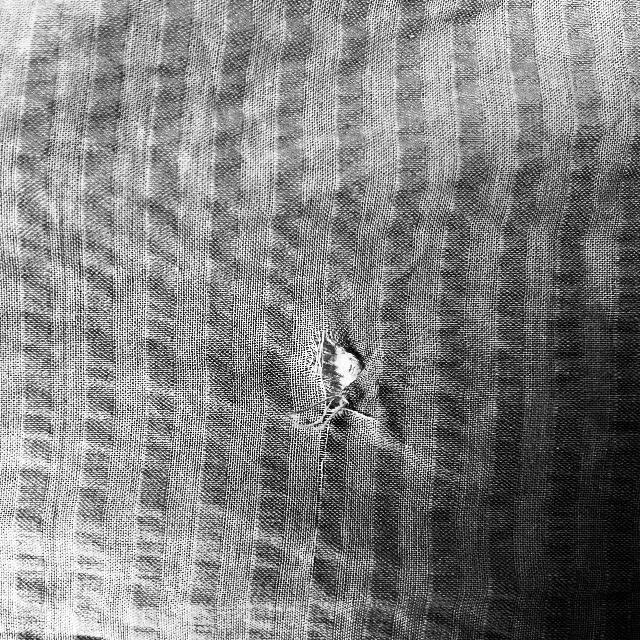Hole: (268, 317, 390, 451)
